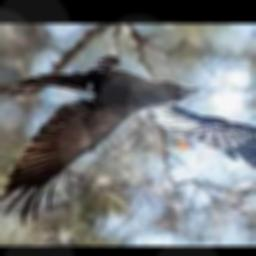Crow: (0, 56, 256, 227)
